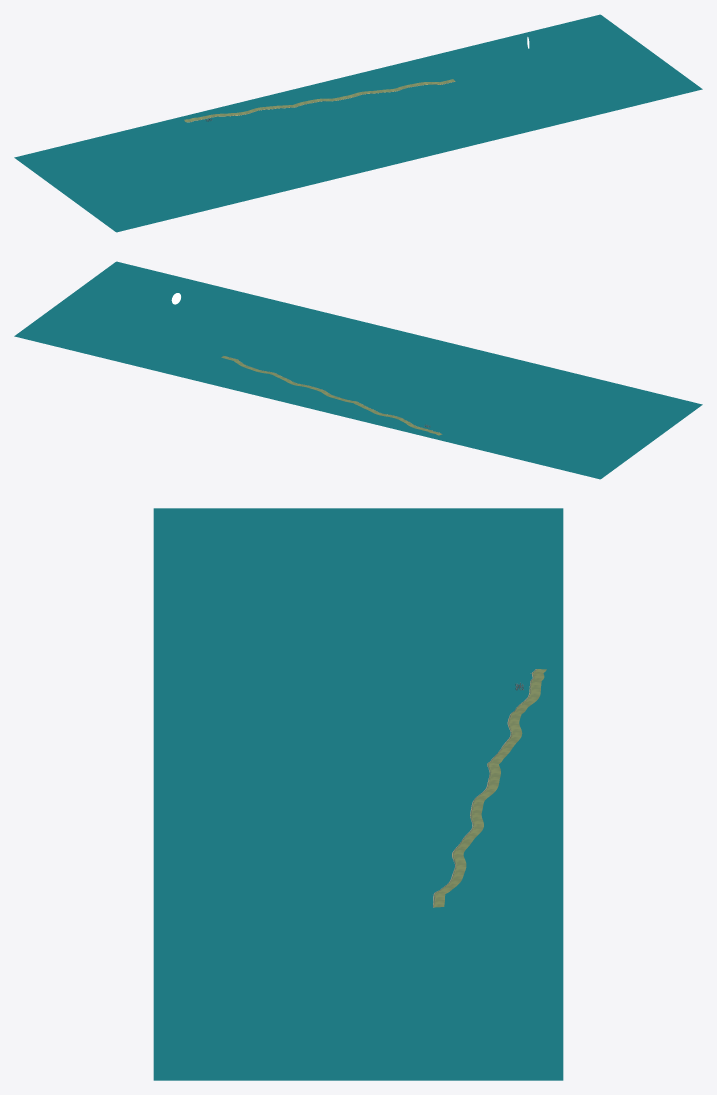
Rendered from beachroad.glb.
The picture shows the model from 3 angles, top to bottom: view 1: azimuth 30°, elevation 25°; view 2: azimuth 150°, elevation 25°; view 3: azimuth 270°, elevation 25°; orthographic projection. The views are drawn at different scales.
Visible parts, largest first — view 1: Sea; view 2: Sea; view 3: Sea.
Part boxes in pixels (box(x1,y1,x2,y2)): Sea: box(14, 14, 702, 232); Sea: box(14, 261, 702, 479); Sea: box(153, 508, 563, 1080).
Bounding box in the file's own units: 46000 × 2928 × 13900.
